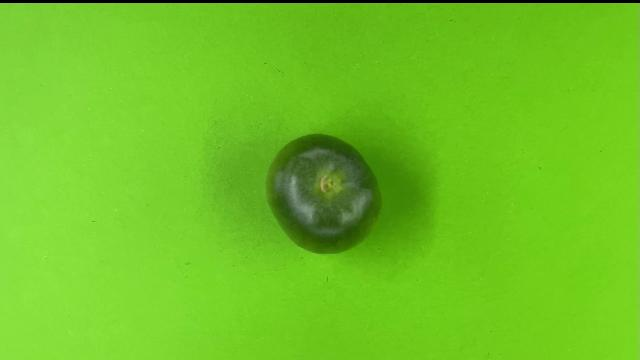Fruit Maturation: (263, 131, 384, 258)
